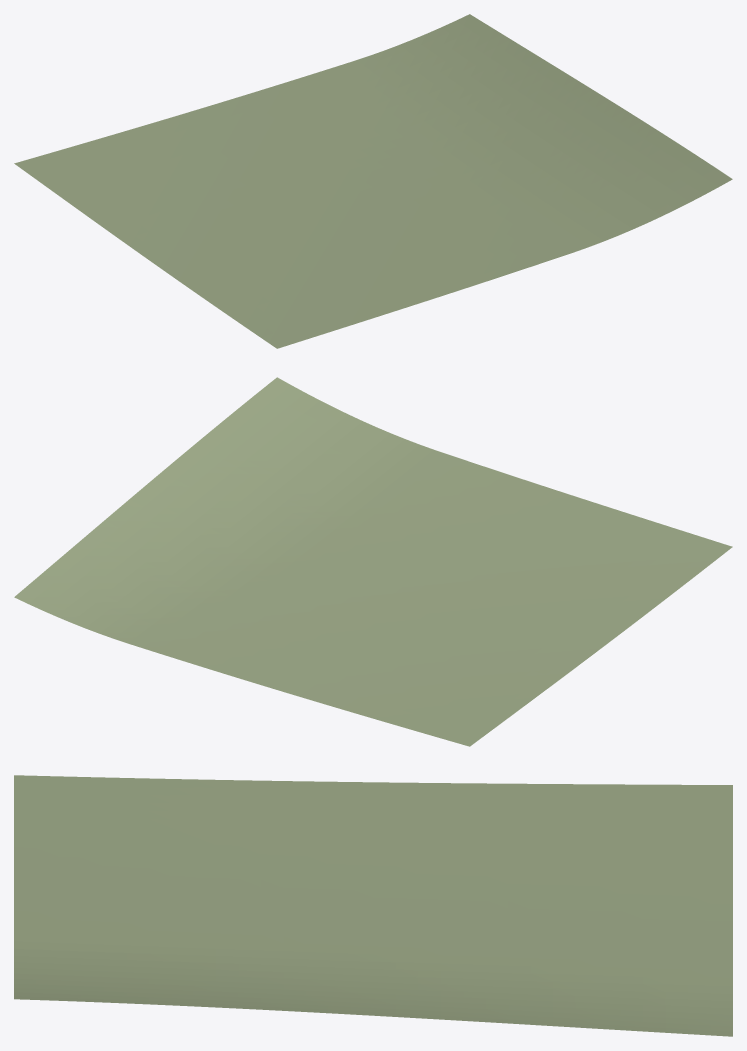
The model's file is expanse-11-5.glb.
3 renders of one model, top to bottom at view 1: azimuth 30°, elevation 25°; view 2: azimuth 150°, elevation 25°; view 3: azimuth 270°, elevation 25°, orthographic. The views are drawn at different scales.
Parts seen in each view (by area): view 1: expanse-11-5; view 2: expanse-11-5; view 3: expanse-11-5.
Part boxes in pixels (x1,y1,x2,y2): expanse-11-5: [14, 14, 732, 348]; expanse-11-5: [14, 377, 732, 746]; expanse-11-5: [14, 775, 732, 1036].
Bounding box in the file's own units: 256 × 35.23 × 256.
